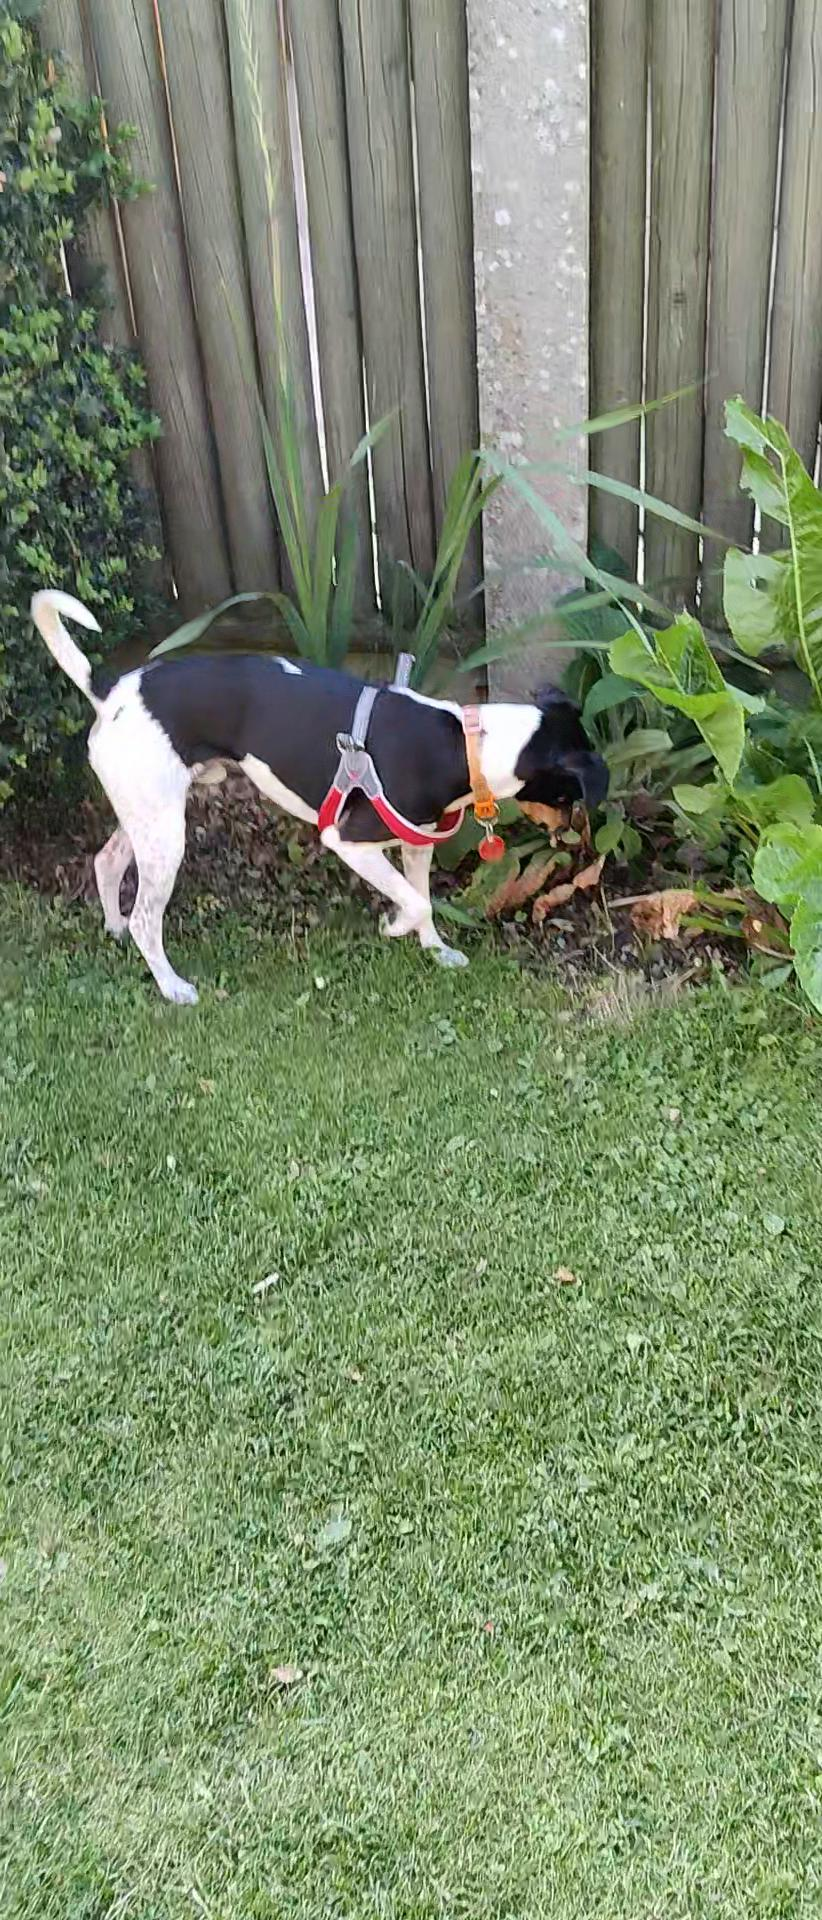Dog: (17, 576, 621, 1022)
